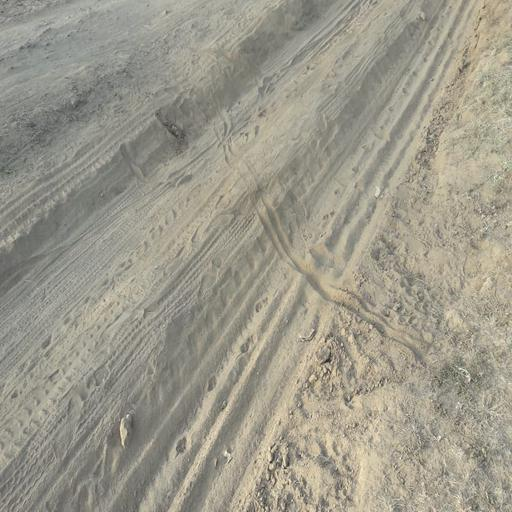vehicle_track: (0, 0, 489, 512)
